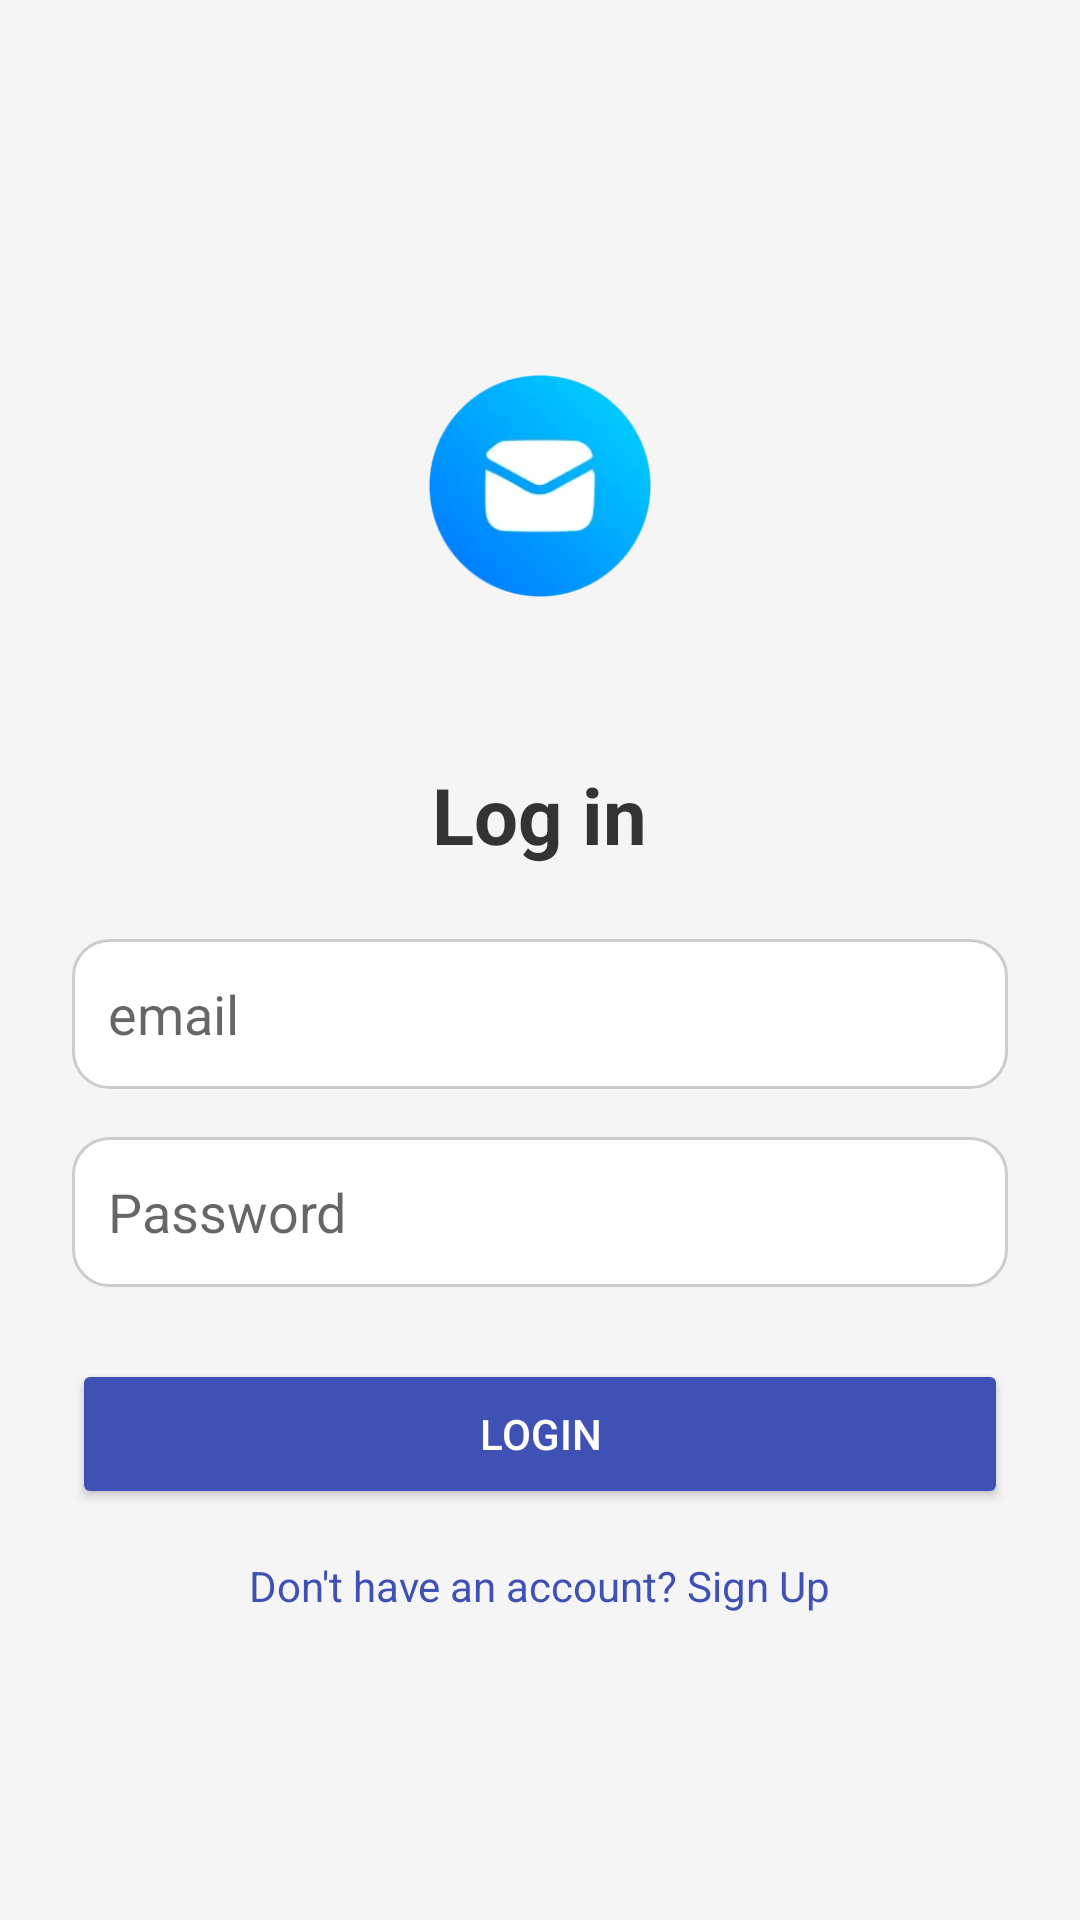

Where icons sit on this 1080px×1920px app screen, as (x1, y1, x2, y2):
email: (429, 375, 651, 597)
